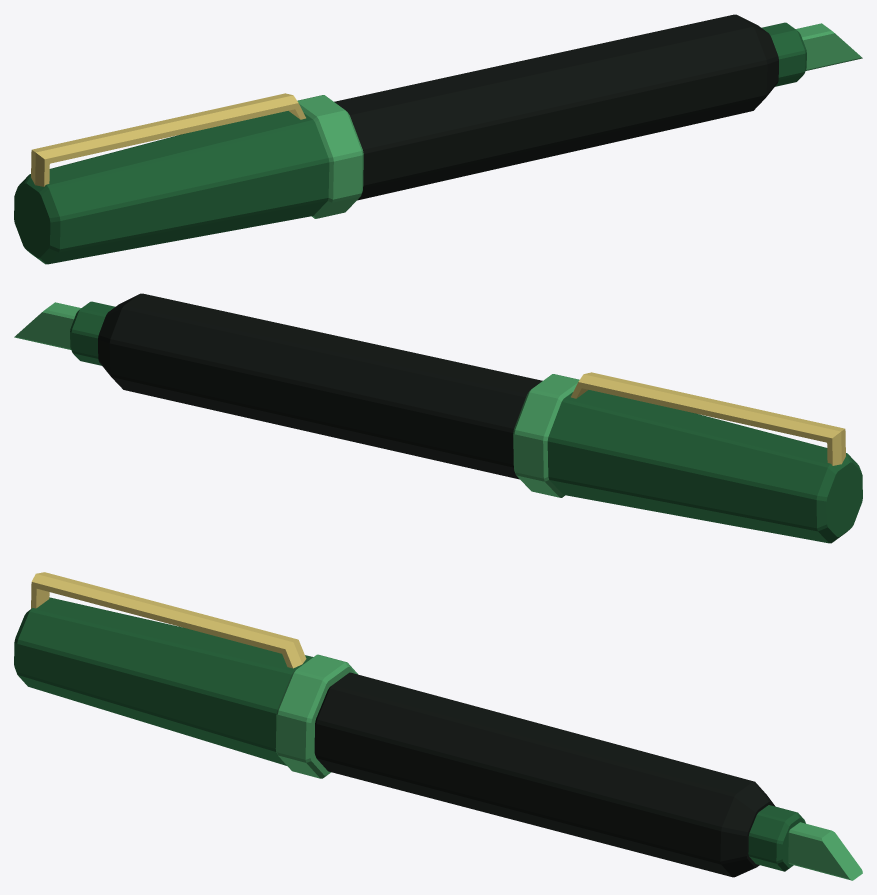
File: wet-erase-marker-779cfc.glb
The picture shows the model from 3 angles, top to bottom: view 1: azimuth 30°, elevation 25°; view 2: azimuth 150°, elevation 25°; view 3: azimuth 330°, elevation 25°; orthographic projection.
Visible parts, largest first — view 1: barrel, cap-shell, clip, cap-band, nib; view 2: barrel, cap-shell, clip, cap-band, nib; view 3: barrel, cap-shell, clip, cap-band, nib.
Boxes of the visible parts, x1,y1,x2,y2 form: barrel: (334,14,806,200); cap-shell: (14,111,329,264); clip: (31,93,305,186); cap-band: (297,95,363,218); nib: (795,23,862,70); barrel: (70,293,542,479); cap-shell: (547,390,862,543); clip: (571,372,845,465); cap-band: (513,374,579,497); nib: (14,302,81,349); barrel: (314,672,805,877); cap-shell: (14,597,313,765); clip: (31,572,306,668); cap-band: (275,654,357,778); nib: (788,822,862,880).
Bounding box in the file's own units: 0.13 × 0.0188 × 0.0153.
